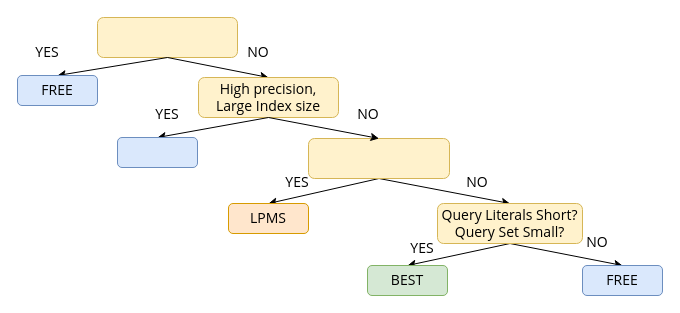
Image size: 680x313. Some labels were removed from this diagram. The shapes that lost their labels are listed below. From the top down, each one's box as (x1, y1, x2, y2) in pixels, then its label:
(96, 16, 238, 58): Unseen Queries Expected?
(116, 136, 198, 168): VGGraph
(308, 138, 450, 178): Query Literals Very Common in Data?
